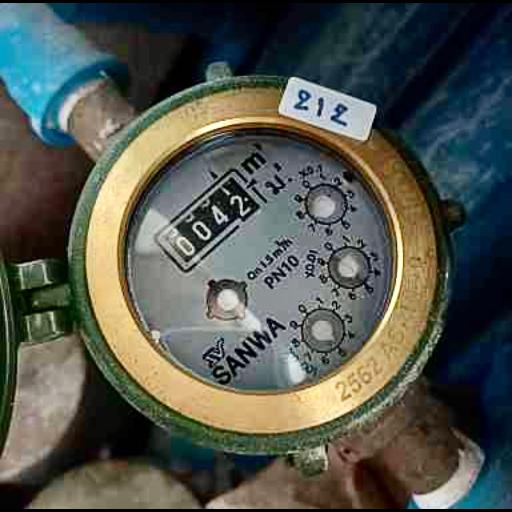0: (177, 208, 219, 250), (162, 223, 202, 263)
2: (215, 175, 262, 224)
4: (196, 192, 238, 235)
border_water_meter_number: (151, 163, 270, 277)
